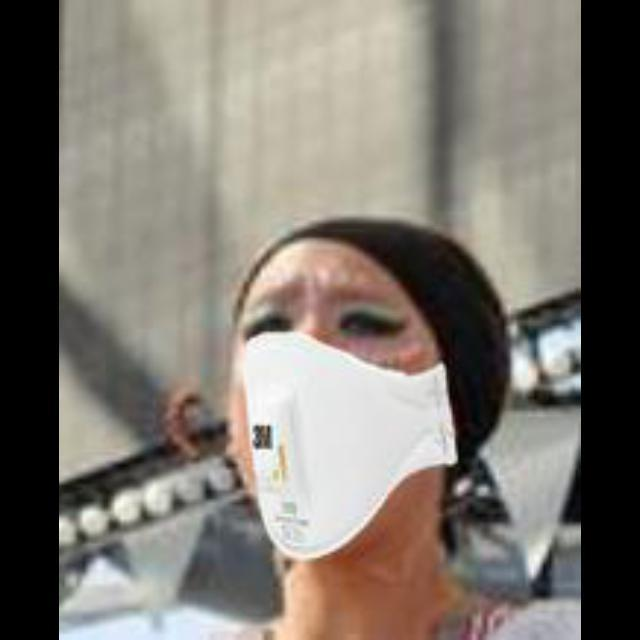suspicion: (149, 179, 501, 563)
